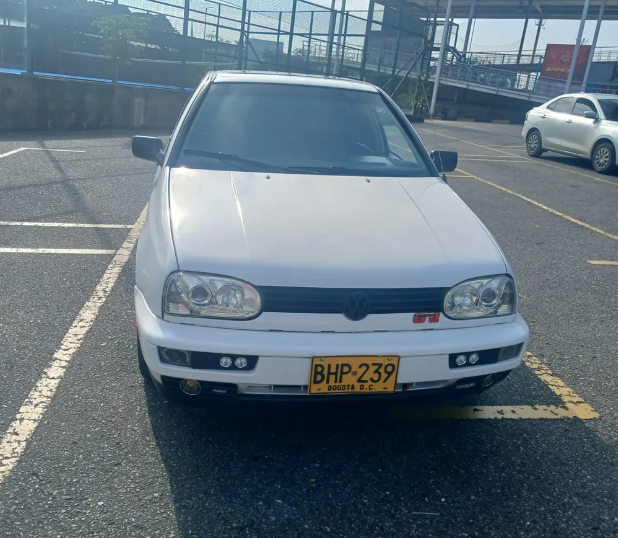placa: (306, 353, 401, 397)
